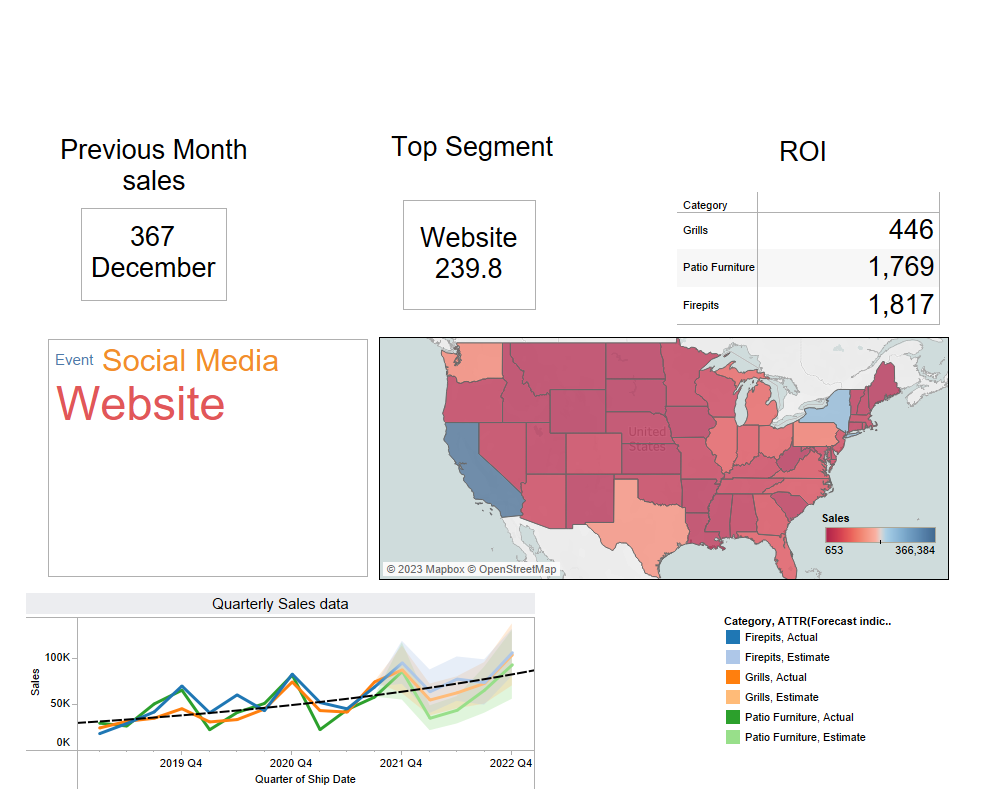

What the dashboard file says about the page in this screenshot:
{"tool":"tableau","page":{"name":"Dashboard 1","canvas":[1000,800],"ordinal":0},"visuals":[{"type":"title","box":[8,8,984,35]},{"type":"text","box":[353,96,238,103]},{"type":"text","box":[723,106,160,92]},{"type":"text","box":[51,116,206,100]},{"type":"worksheet","title":"ROI","mark":"Automatic","rows":["Category"],"box":[677,192,263,133]},{"type":"worksheet","title":"Top Segment","mark":"Automatic","box":[403,200,133,110]},{"type":"worksheet","title":"Previous Month Sales","mark":"Automatic","box":[81,208,146,93]},{"type":"worksheet","title":"Sales by State","mark":"Automatic","box":[379,337,570,243]},{"type":"worksheet","title":"Segement word map","mark":"Text","box":[48,339,320,238]},{"type":"legend","title":"Sales by State","param":"[federated.0oo2m9o0wasteo1f0ml020oz8yqh].[sum:Sales:qk]","box":[821,508,119,62]},{"type":"worksheet","title":"Quarterly Sales data","mark":"Automatic","rows":["Sales"],"cols":["Ship Date"],"box":[26,593,509,197]},{"type":"legend","title":"Quarterly Sales data","param":"[federated.0oo2m9o0wasteo1f0ml020oz8yqh].[none:Category:nk]\n[federated.0oo2m9o0w","box":[723,613,170,138]}]}

Visuals, with their boxes in screenshot pixels (x1, y1, x2, y2), scaled from the page's 1000x800 canvas onto the 1000x800 screenshot:
title: detection(8, 8, 992, 43)
text: detection(353, 96, 591, 199)
text: detection(723, 106, 883, 198)
text: detection(51, 116, 257, 216)
"ROI" worksheet: detection(677, 192, 940, 325)
"Top Segment" worksheet: detection(403, 200, 536, 310)
"Previous Month Sales" worksheet: detection(81, 208, 227, 301)
"Sales by State" worksheet: detection(379, 337, 949, 580)
"Segement word map" worksheet (Text marks): detection(48, 339, 368, 577)
"Sales by State" legend: detection(821, 508, 940, 570)
"Quarterly Sales data" worksheet: detection(26, 593, 535, 790)
"Quarterly Sales data" legend: detection(723, 613, 893, 751)
